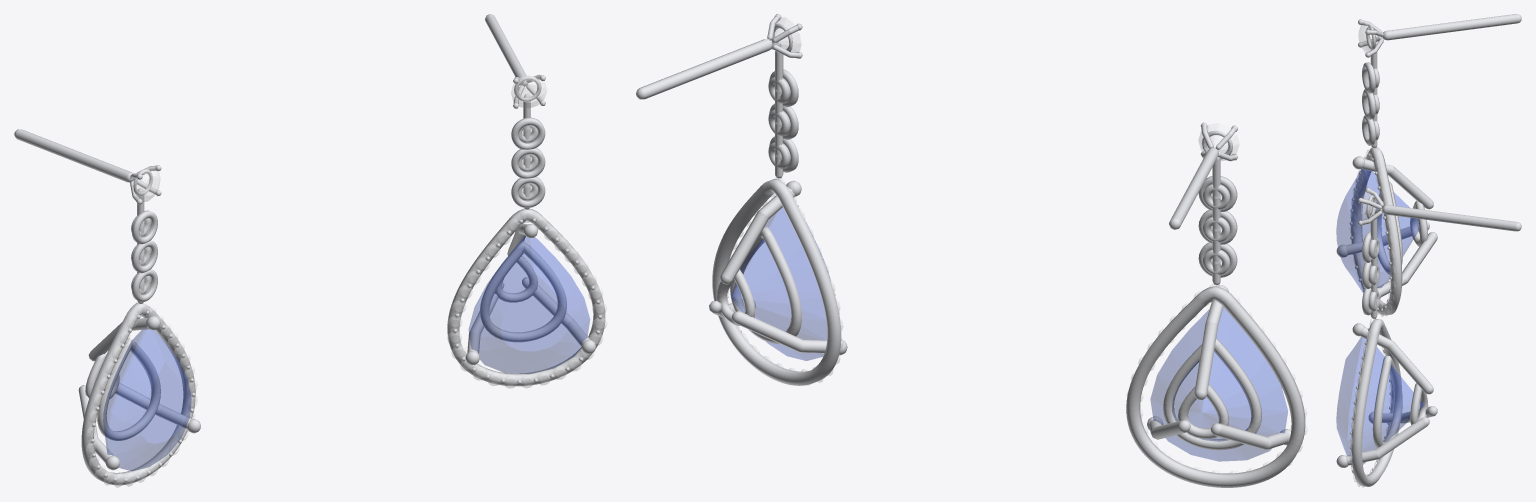
Rendered from drop-earrings.glb.
The picture shows the model from 3 angles, left to right: view 1: azimuth 30°, elevation 25°; view 2: azimuth 150°, elevation 25°; view 3: azimuth 270°, elevation 25°; orthographic projection. The views are drawn at different scales.
Parts seen in each view (by area): view 1: metal, sapphire, diamond; view 2: metal, sapphire, diamond; view 3: metal, sapphire, diamond.
Part boxes in pixels (x1=…): metal: x1=14, y1=14, x2=605, y2=485; sapphire: x1=103, y1=236, x2=589, y2=470; diamond: x1=86, y1=74, x2=607, y2=487; metal: x1=636, y1=14, x2=1305, y2=487; sapphire: x1=731, y1=207, x2=1287, y2=461; diamond: x1=727, y1=17, x2=1307, y2=473; metal: x1=1336, y1=14, x2=1521, y2=486; sapphire: x1=1336, y1=169, x2=1424, y2=466; diamond: x1=1350, y1=22, x2=1395, y2=487.
Size of the model in its own units: 3.22 by 1.87 by 1.09.
